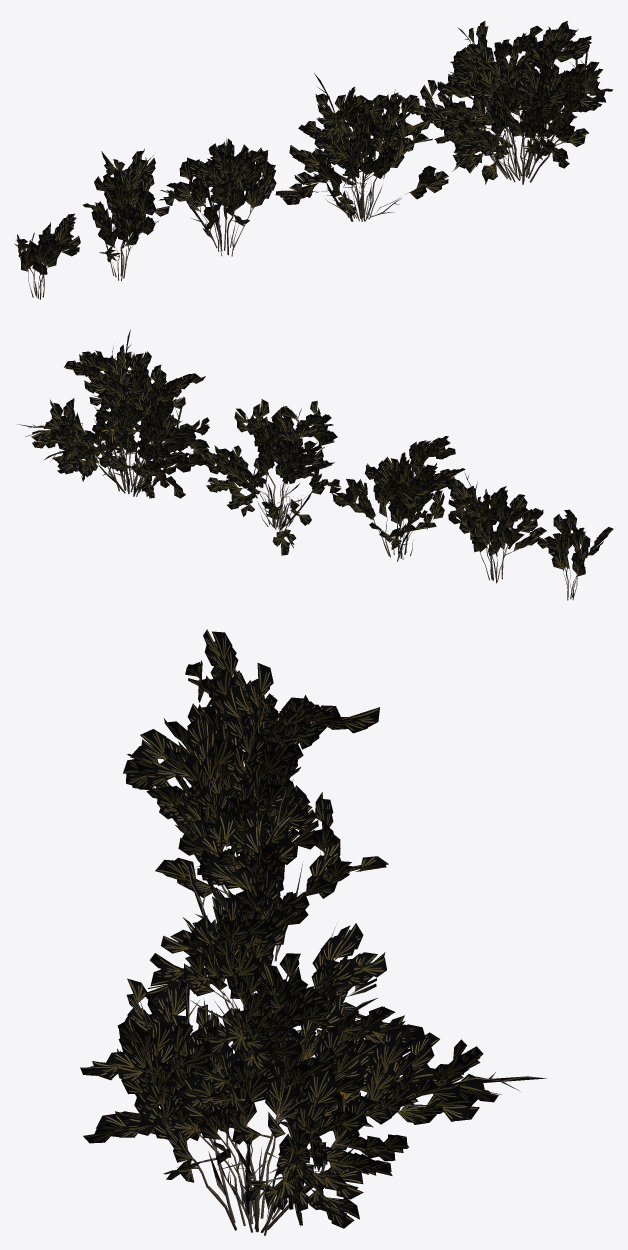
The model's file is wild_rooibos_bush.glb.
3 views of the same model, one above another, from view 1: azimuth 30°, elevation 25°; view 2: azimuth 150°, elevation 25°; view 3: azimuth 270°, elevation 25° (orthographic). The views are drawn at different scales.
Parts seen in each view (by area): view 1: wild_rooibos_bush_a; view 2: wild_rooibos_bush_a; view 3: wild_rooibos_bush_a.
Boxes of the visible parts, x1,y1,x2,y2 form: wild_rooibos_bush_a: [14, 21, 612, 299]; wild_rooibos_bush_a: [17, 330, 613, 600]; wild_rooibos_bush_a: [80, 629, 547, 1235].
Size of the model in its own units: 2.27 by 0.533 by 0.8285.
2 materials, 2 textured.
